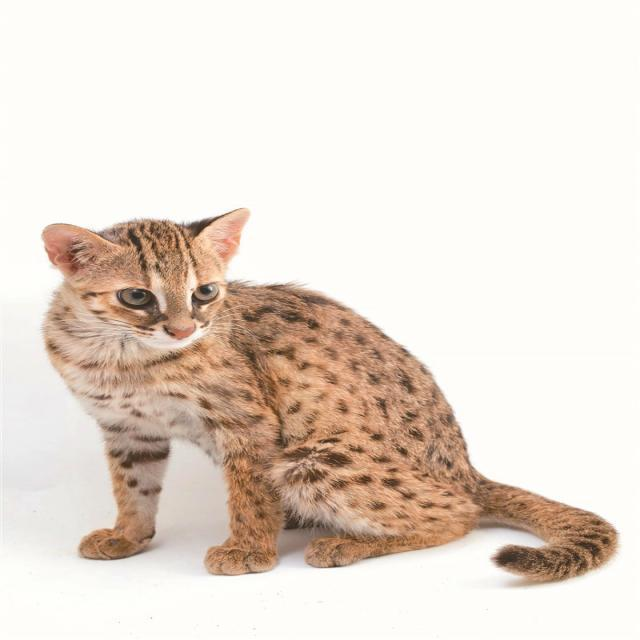leopard: (55, 186, 513, 612)
